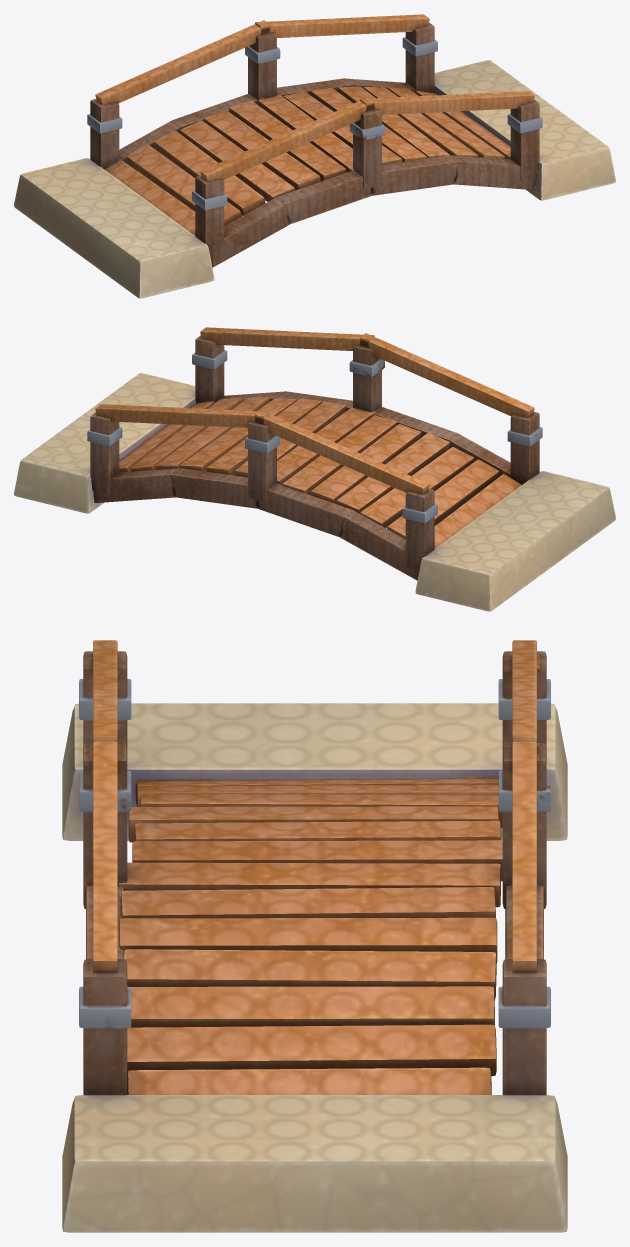
The model's file is PontBois.fbx.
3 views of the same model, one above another, from view 1: azimuth 30°, elevation 25°; view 2: azimuth 150°, elevation 25°; view 3: azimuth 270°, elevation 25° (orthographic). The views are drawn at different scales.
Parts seen in each view (by area): view 1: PontBois; view 2: PontBois; view 3: PontBois.
Boxes of the visible parts, box(x1,y1,x2,y2) form: PontBois: box(14, 14, 615, 298); PontBois: box(14, 327, 615, 611); PontBois: box(62, 640, 567, 1232).
Bounding box in the file's own units: 1997 × 534 × 915.
1 material, 1 textured.
